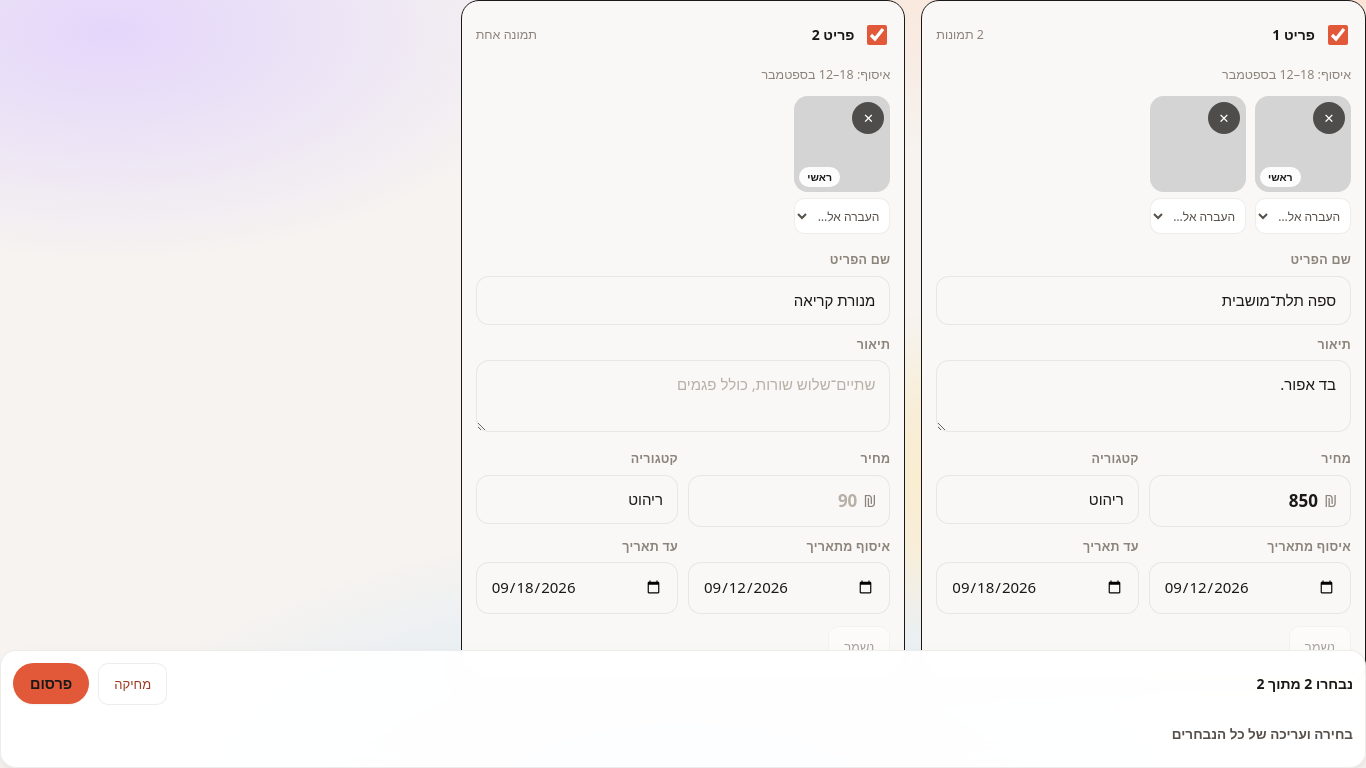
Scenario: the import review screen › stays usable when a server action throws instead of returning a refusal
What coordinates should you click on to do the following:
click the button named "הסרת התמונה"
I would click on:
 (1329, 118)
Its box is [1313, 102, 1345, 134].
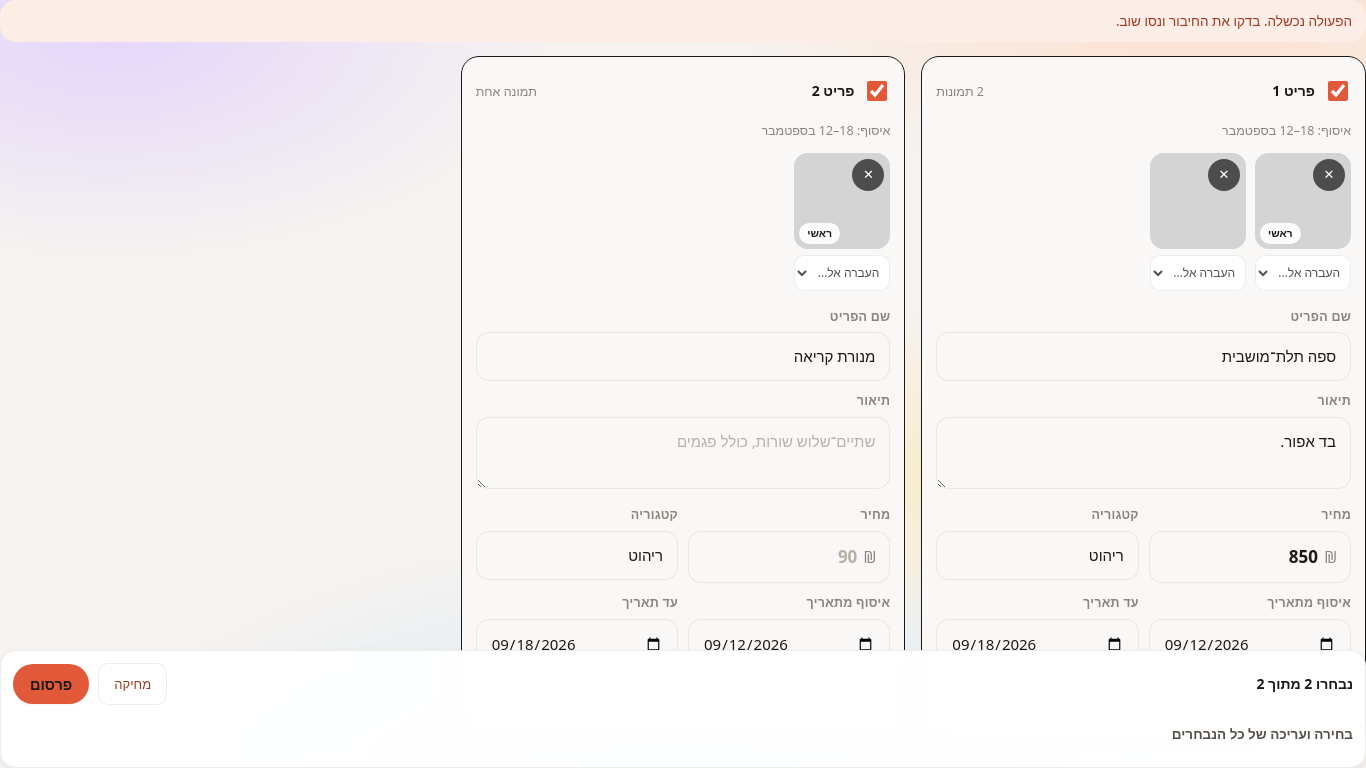
Expected: the button "פרסום" is enabled, [13, 664, 89, 704]
Result: the text "הפעולה נכשלה. בדקו את החיבור ונסו שוב." is shown at [1116, 12, 1352, 30]
